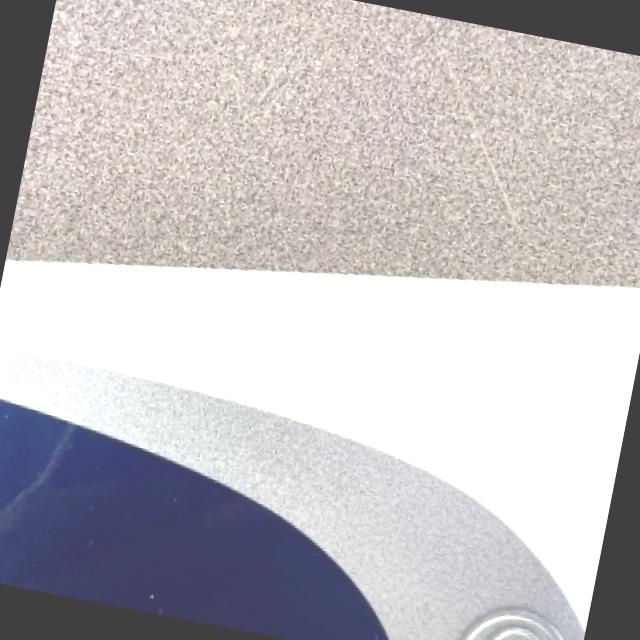healthy: (0, 259, 640, 640)
